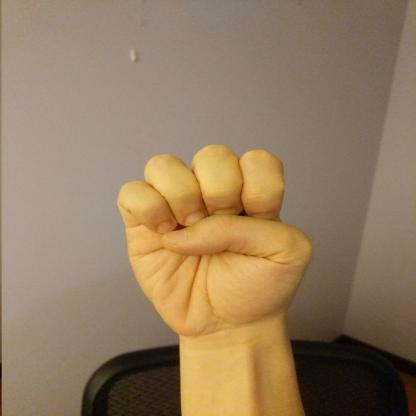E: (111, 141, 317, 340)
